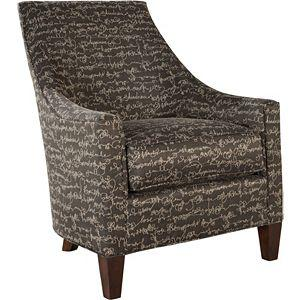chair: (14, 2, 285, 300)
